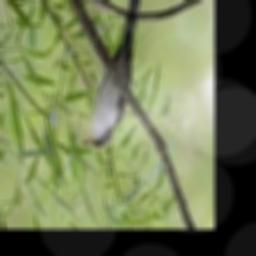Cuckoo: (83, 0, 142, 148)
